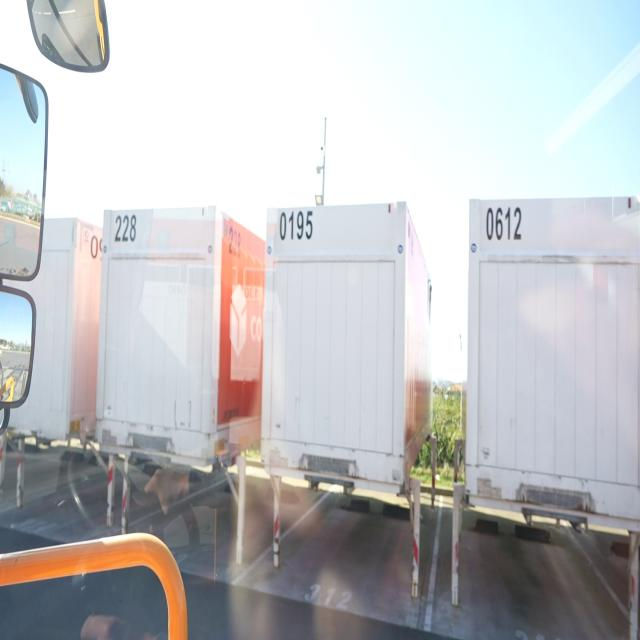Code: (480, 204, 525, 252), (276, 208, 315, 249), (110, 210, 140, 244)
